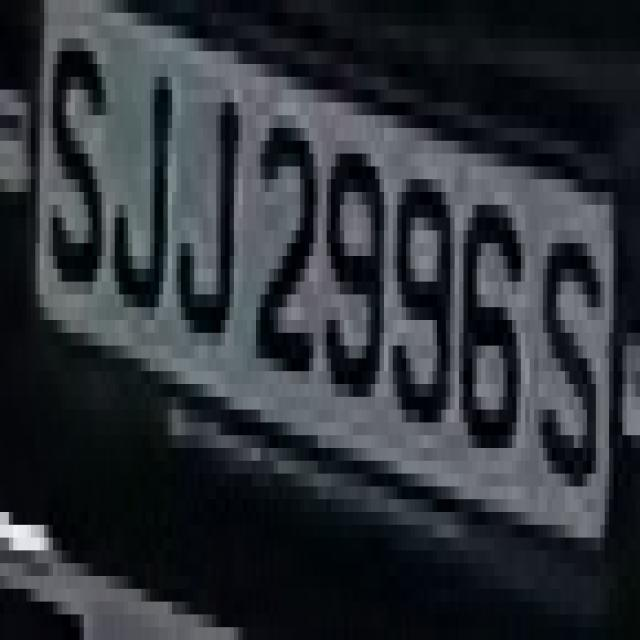2: (247, 77, 322, 397)
6: (459, 154, 525, 474)
9: (379, 128, 464, 499), (314, 115, 388, 461)
J: (115, 12, 181, 346), (186, 102, 252, 397)
S: (538, 205, 618, 538), (44, 13, 119, 307)
